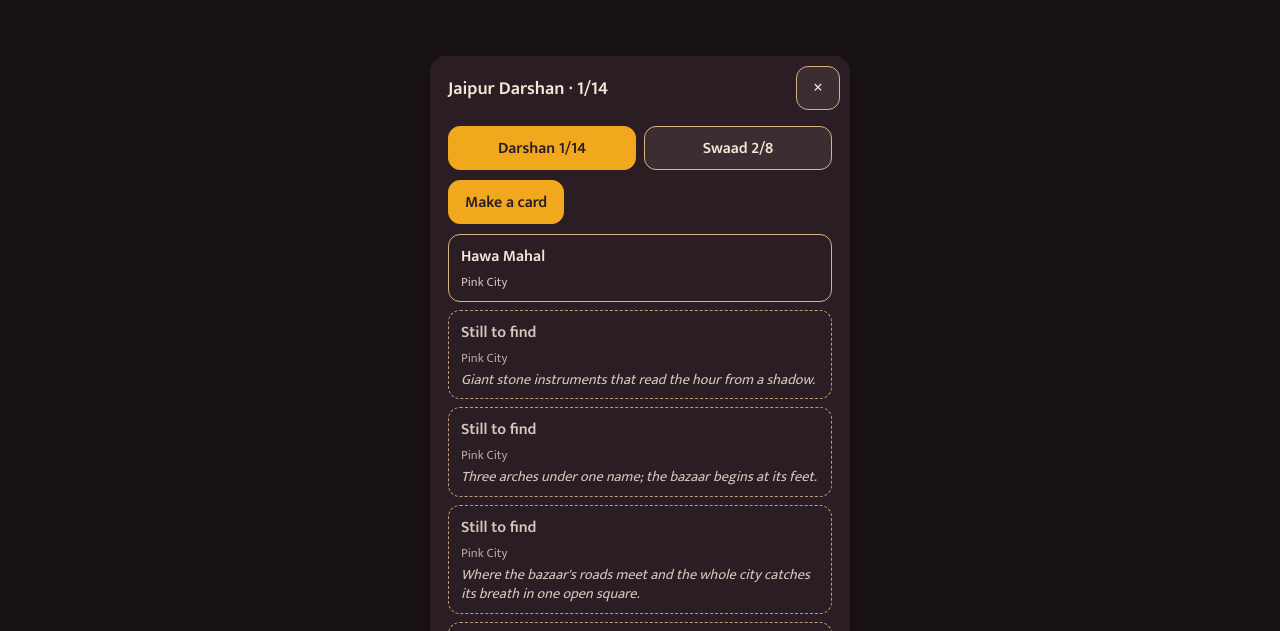
the Darshan sheet has a second tab: all eight dishes, where each is served, a note for the tasted
Later steps or results of the test are not shown.
expect the tab "Darshan 1/14" is shown: met, box [448,126,636,170]
Click the tab "Swaad 2/8": (738, 148) [644,126,832,170]
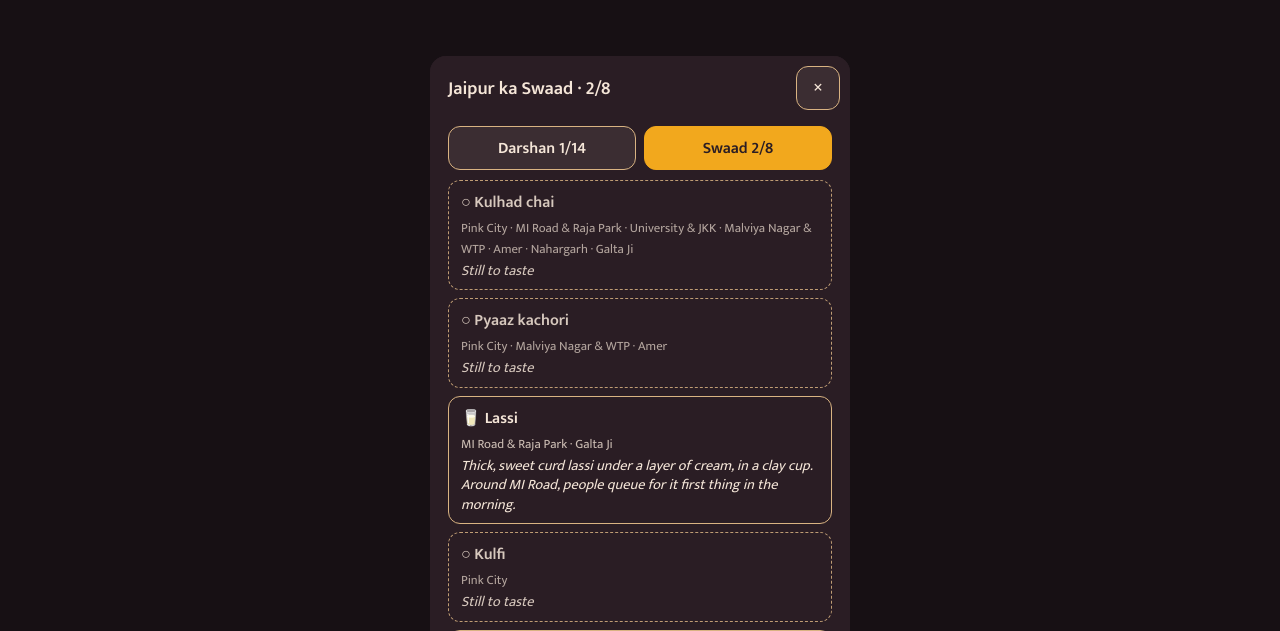
expect the heading "Jaipur ka Swaad · 2/8" is shown: met, box [448,72,611,104]
expect the button with class "darshan-card-make" is gone: met
expect the list item that starts with "Lassi" shows "MI Road & Raja Park · Galta Ji": met, box [461,434,613,455]
